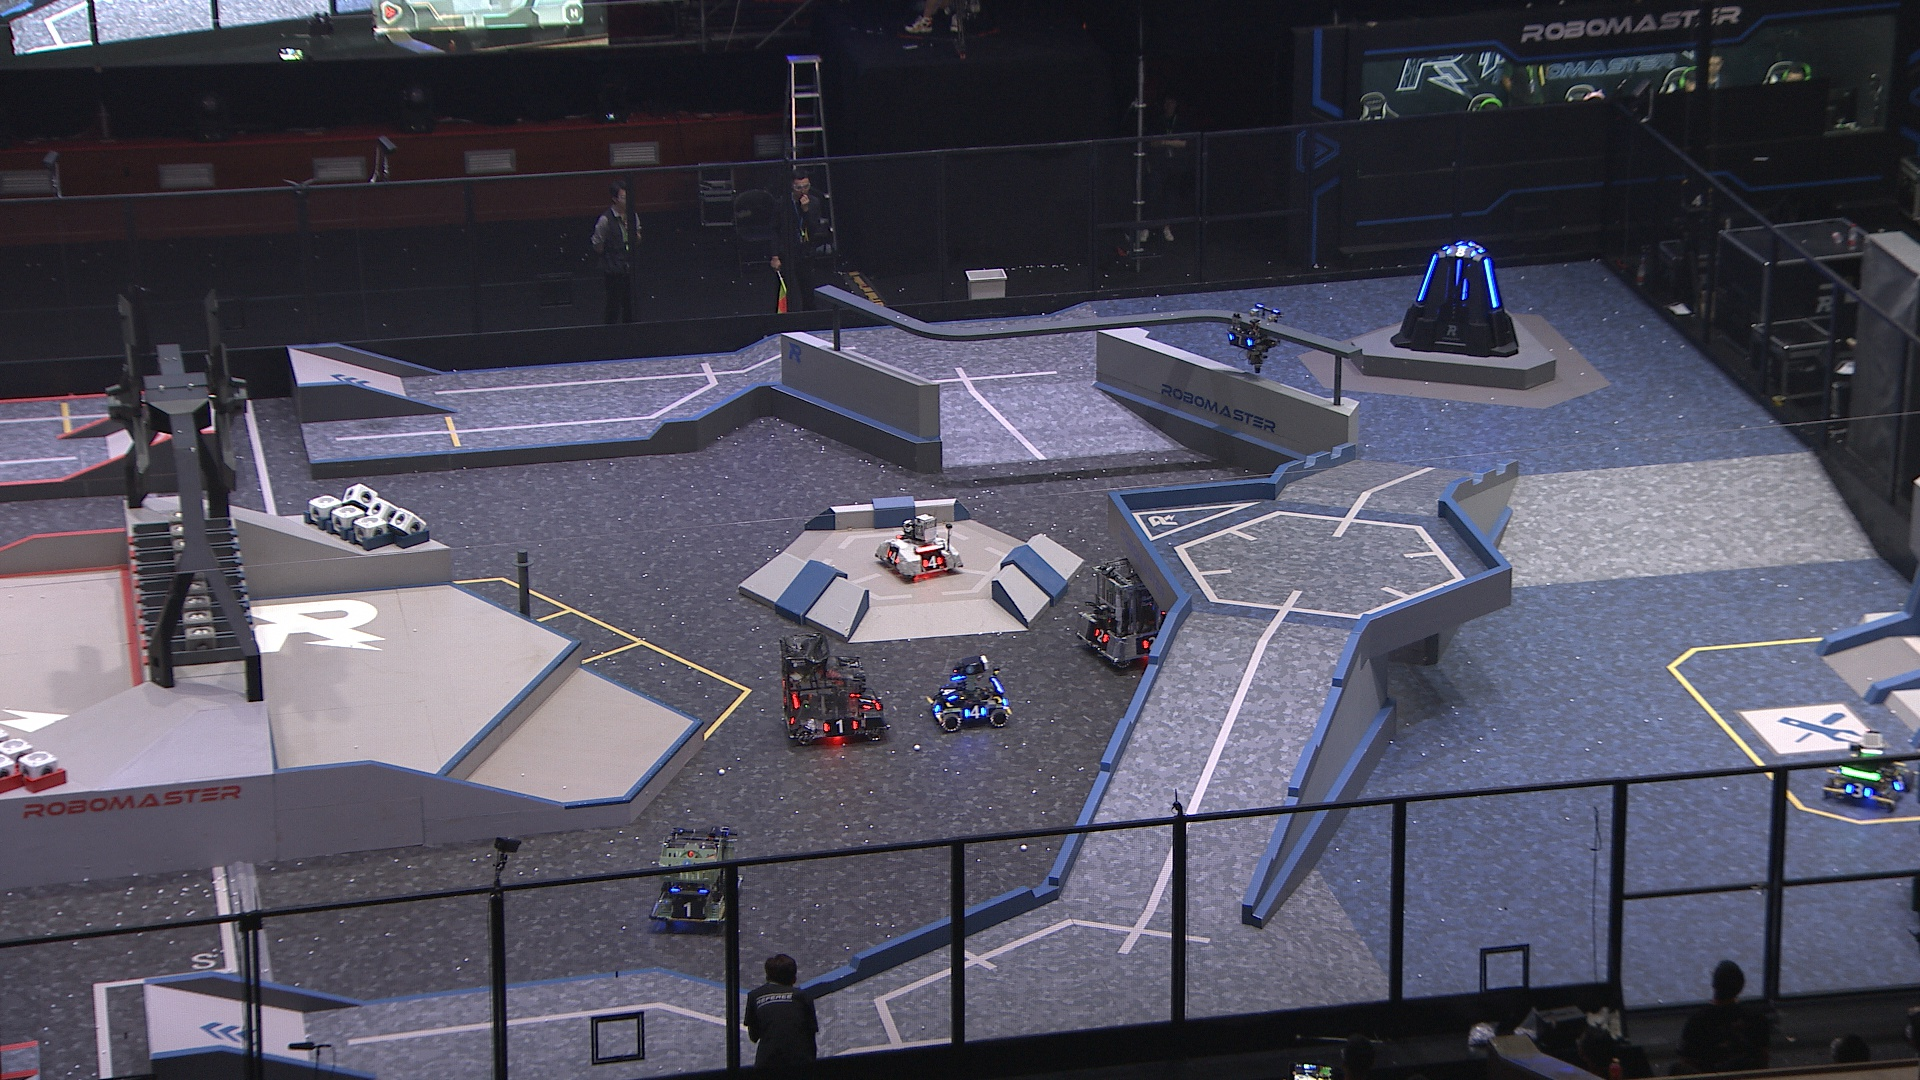armor: (1416, 255, 1439, 302), (1482, 257, 1501, 310), (667, 897, 707, 920), (822, 717, 858, 736), (1844, 781, 1875, 799), (1443, 243, 1476, 258), (1228, 334, 1257, 349), (963, 704, 988, 721), (920, 553, 945, 570), (1091, 626, 1110, 646), (860, 694, 878, 713), (1890, 774, 1908, 793), (1452, 257, 1462, 289), (942, 687, 959, 703), (884, 549, 901, 564), (1139, 636, 1156, 651), (928, 699, 942, 716), (1462, 278, 1472, 301)
base: (1389, 239, 1522, 360)
car: (775, 636, 887, 749), (1072, 555, 1179, 670), (645, 828, 745, 931), (1818, 731, 1916, 814), (923, 650, 1013, 733), (874, 514, 965, 583)
watcher: (1228, 302, 1284, 371)
